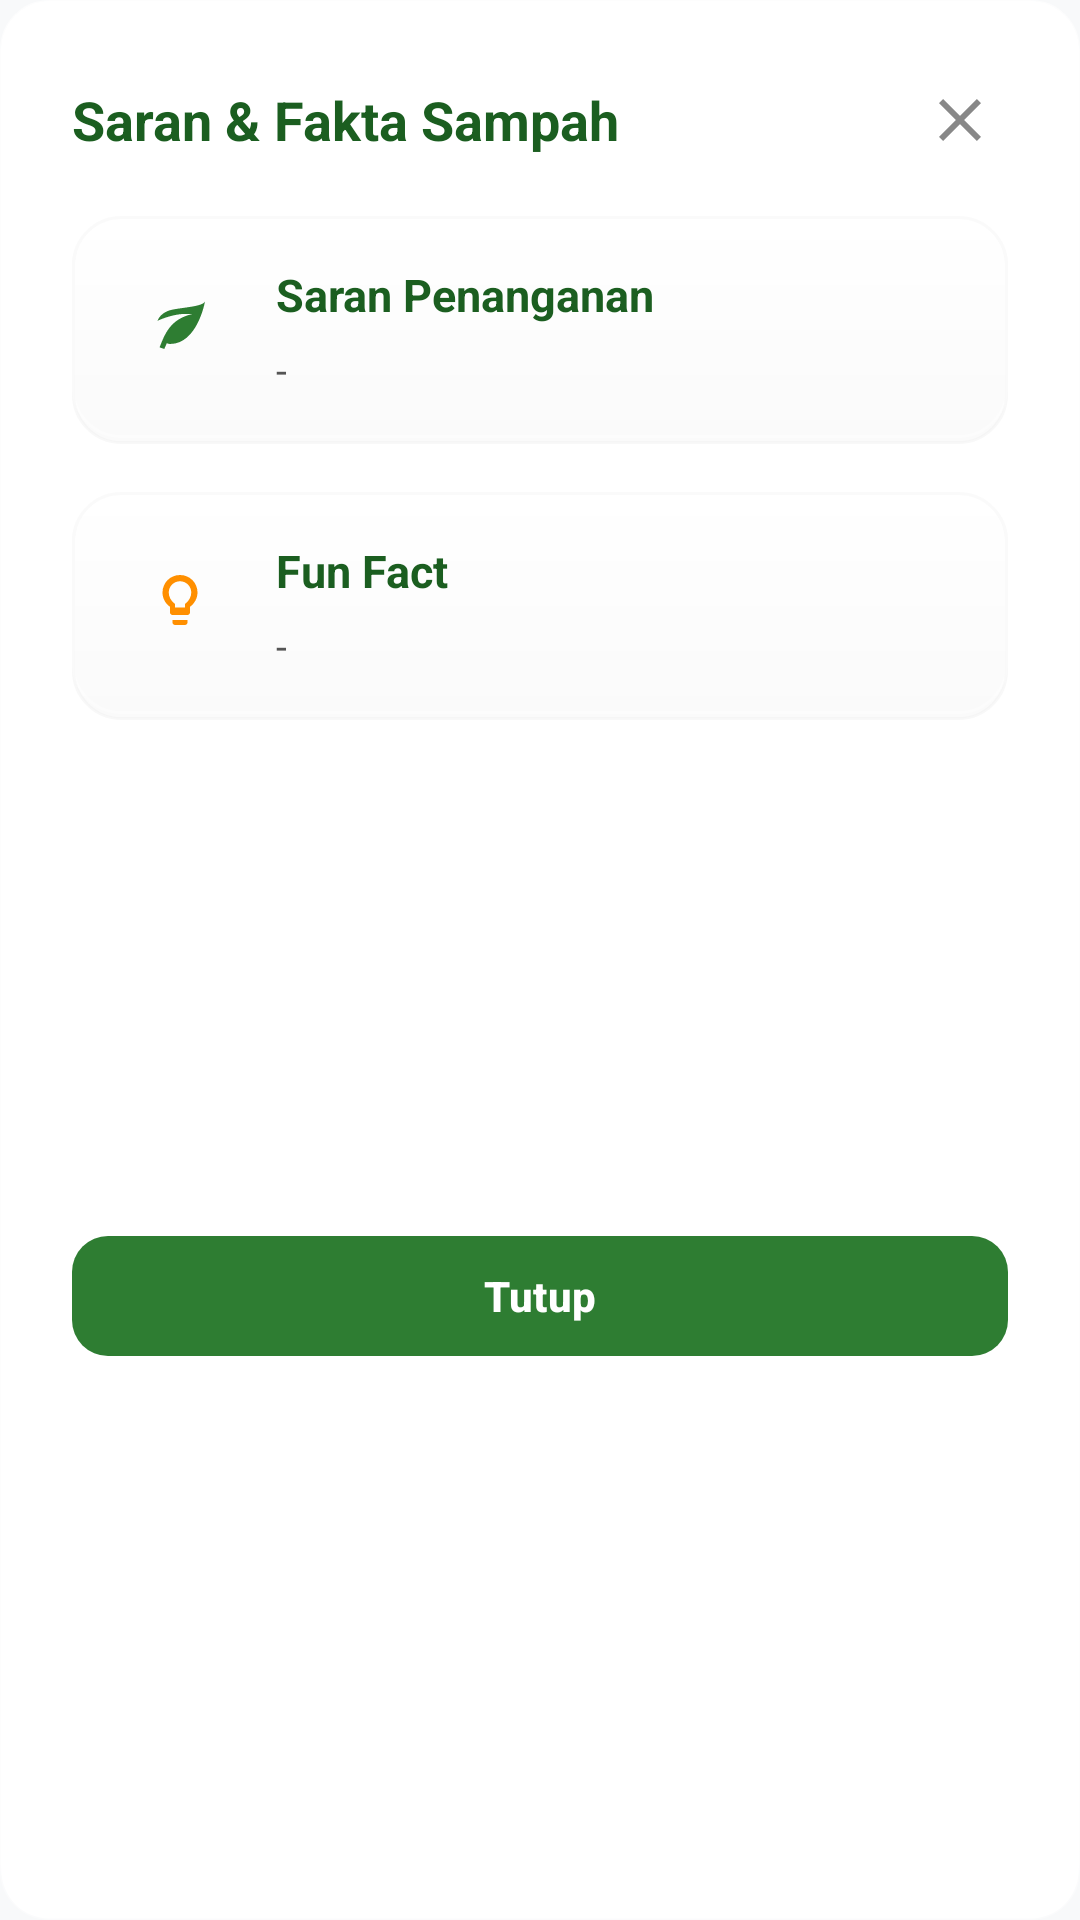

Icon bounding boxes for this 1080 x 1920 phone screenshot, format (x1, y1, x2, y2):
close: (939, 99, 981, 141)
idea: (162, 575, 198, 625)
organik: (157, 302, 205, 349)
